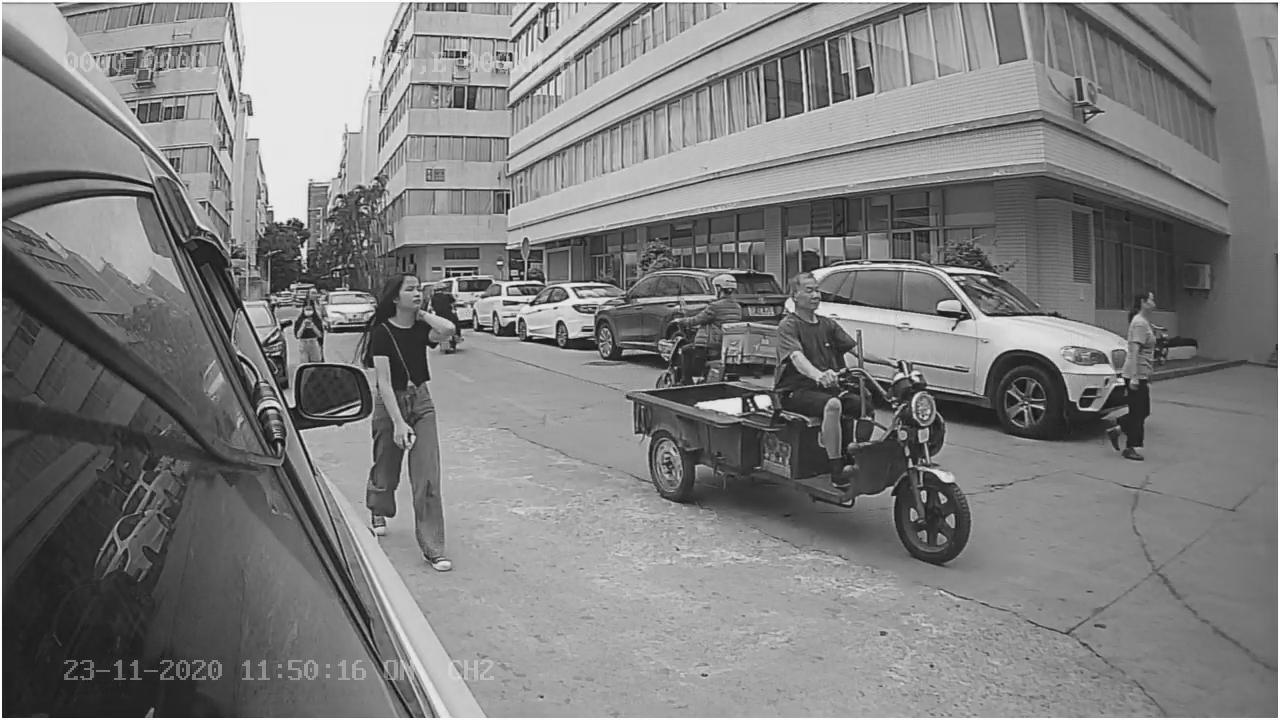person: (776, 263, 877, 379), (365, 261, 467, 371), (1097, 287, 1161, 461)
